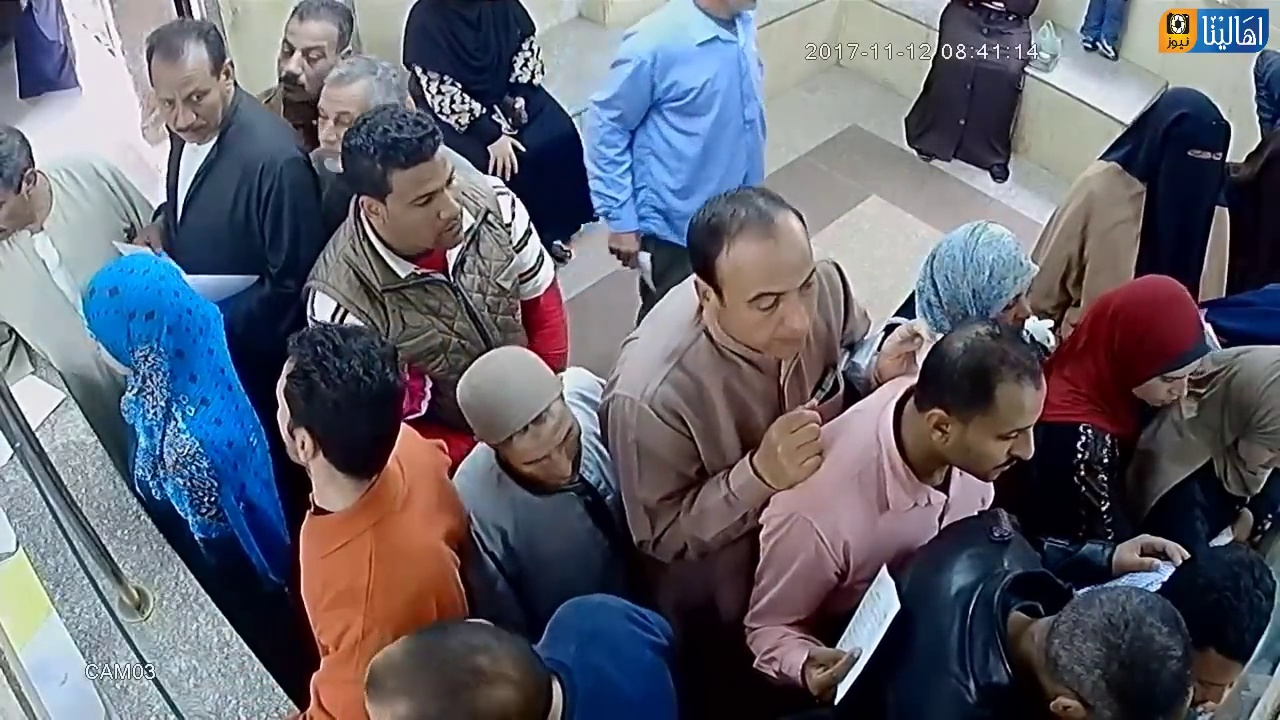face: (721, 249, 815, 352), (381, 165, 465, 251), (499, 417, 587, 490), (149, 50, 214, 146), (976, 389, 1035, 479), (1140, 341, 1192, 417), (277, 23, 321, 96), (318, 83, 350, 174)
